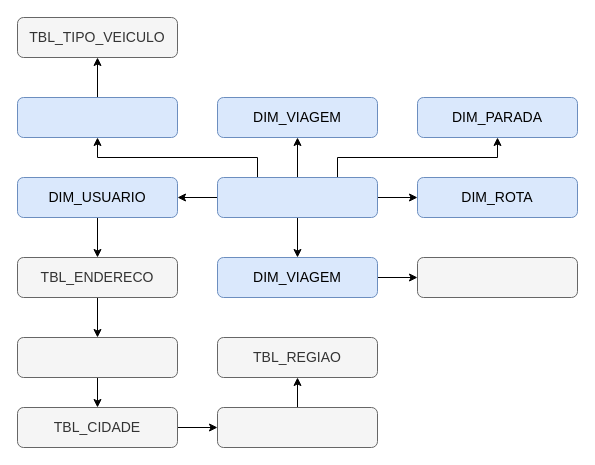
Some shapes in this 595 by 465 pixel diagram are drawn without their labels. The shapes that lost their labels are listed below. From the top down, each one's box as (x1, y1, x2, y2) in pixels, then its label:
(16, 96, 178, 138): DIM_VEICULO
(216, 176, 378, 218): FATO_PASSAGENS
(416, 256, 578, 298): TBL_ORIGEM
(16, 336, 178, 378): TBL_BAIRRO
(216, 406, 378, 448): TBL_ESTADO
